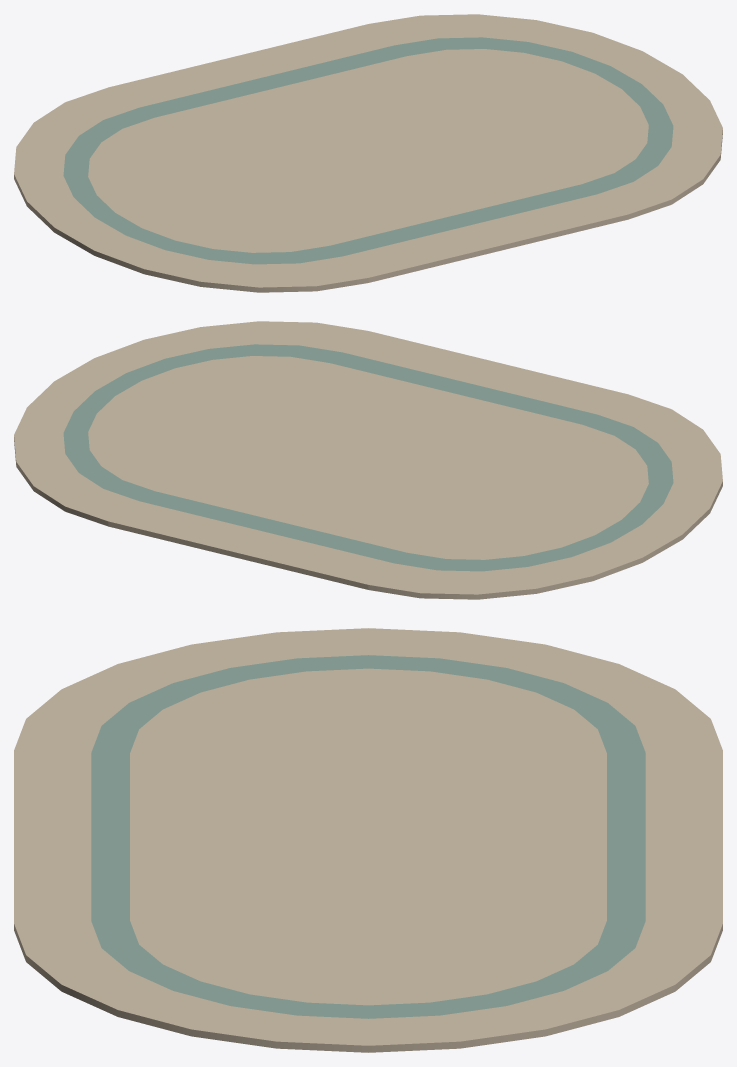
Rendered from rug.glb.
3 views of the same model, one above another, from view 1: azimuth 30°, elevation 25°; view 2: azimuth 150°, elevation 25°; view 3: azimuth 270°, elevation 25° (orthographic). The views are drawn at different scales.
Visible parts, largest first — view 1: rugRounded(Clone); view 2: rugRounded(Clone); view 3: rugRounded(Clone).
Boxes of the visible parts, left/top/right/bottom form: rugRounded(Clone): left=14, top=14, right=722, bottom=292; rugRounded(Clone): left=14, top=321, right=722, bottom=599; rugRounded(Clone): left=14, top=628, right=722, bottom=1052.
Bounding box in the file's own units: 2.3 × 0.018 × 1.65.
